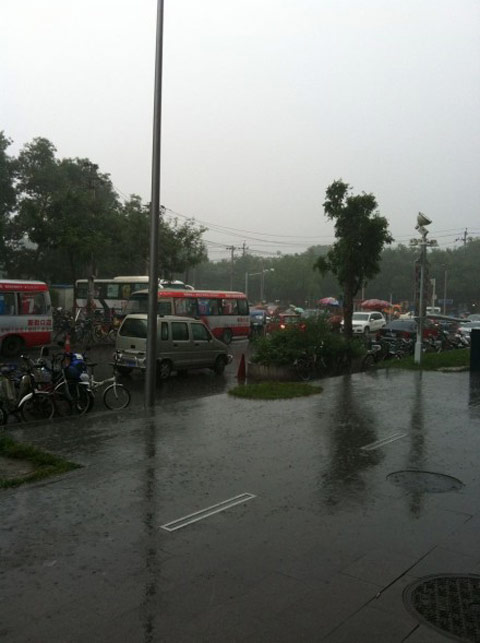bicycle: (29, 354, 88, 415), (73, 359, 135, 407), (3, 366, 48, 418)
bus: (129, 283, 253, 345), (76, 276, 194, 320), (1, 268, 56, 349)
car: (108, 311, 238, 377), (340, 307, 386, 345), (269, 309, 316, 342), (382, 317, 425, 351), (458, 319, 480, 345)
umbrella: (363, 292, 396, 315), (312, 292, 342, 317)
